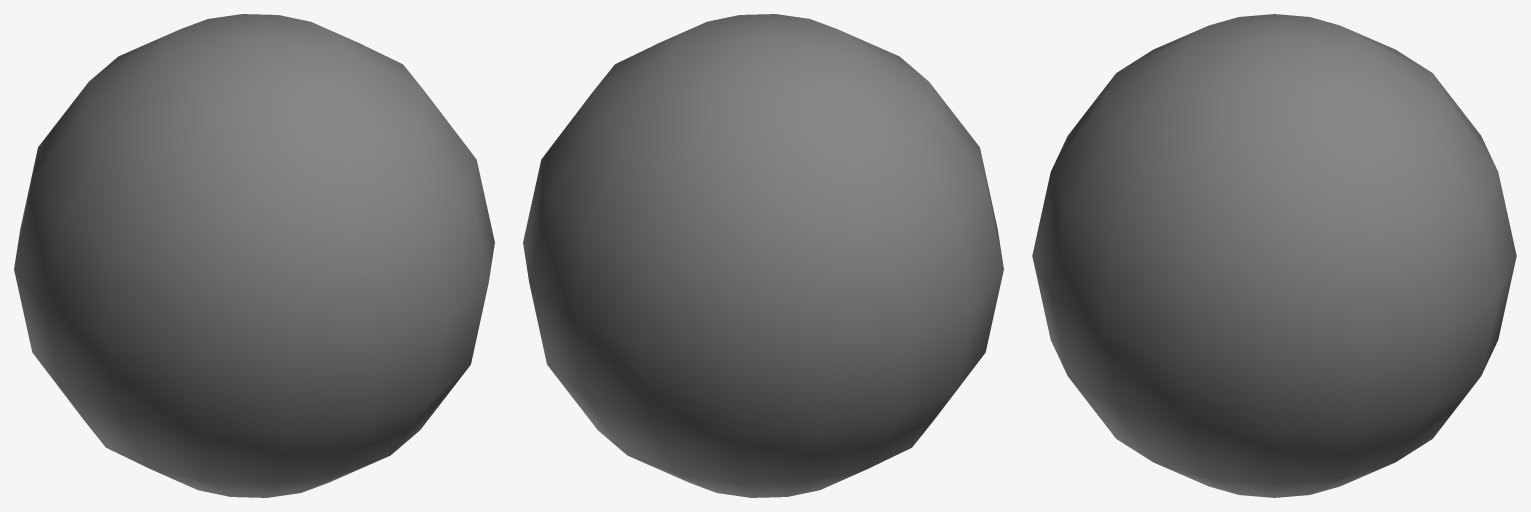
File: 01_Mercurio.gltf
3 renders of one model, left to right at view 1: azimuth 30°, elevation 25°; view 2: azimuth 150°, elevation 25°; view 3: azimuth 270°, elevation 25°, orthographic.
Parts seen in each view (by area): view 1: 01_Mercurio; view 2: 01_Mercurio; view 3: 01_Mercurio.
Part boxes in pixels (<box>): 01_Mercurio: <box>14,14,494,497</box>; 01_Mercurio: <box>523,14,1003,497</box>; 01_Mercurio: <box>1032,14,1516,497</box>.
Size of the model in its own units: 0.3208 by 0.3208 by 0.3208.
Materials: 1 (1 with a texture image).
